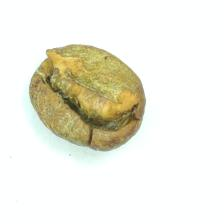NG: (44, 47, 137, 132)
